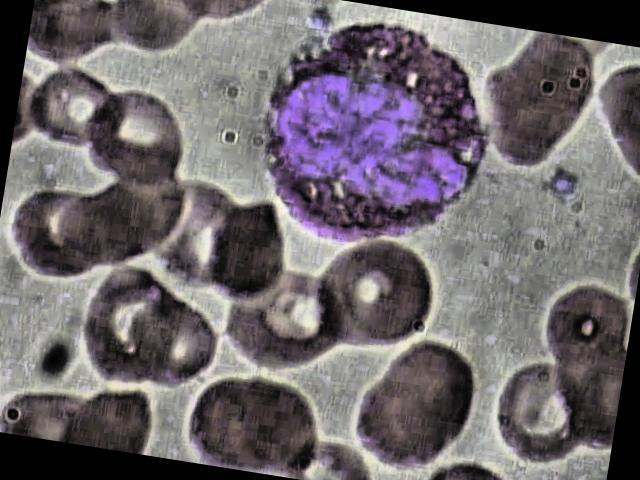Platelets: (540, 162, 580, 206)
RBC: (68, 254, 192, 394), (318, 234, 448, 362), (472, 351, 602, 478), (361, 331, 491, 458), (82, 78, 202, 192), (119, 284, 228, 408)
WBC: (236, 2, 514, 276)
